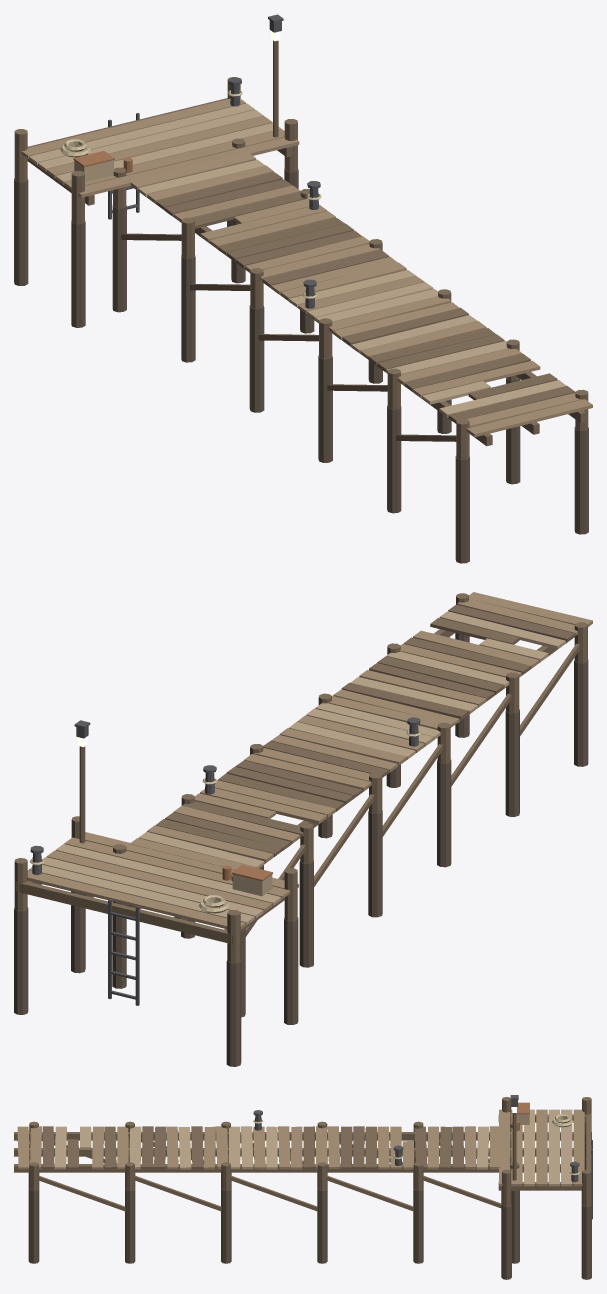
File: SM_Lake_Dock.glb
3 views of the same model, one above another, from view 1: azimuth 30°, elevation 25°; view 2: azimuth 150°, elevation 25°; view 3: azimuth 270°, elevation 25° (orthographic). The views are drawn at different scales.
Parts seen in each view (by area): view 1: SM_Lake_Dock; view 2: SM_Lake_Dock; view 3: SM_Lake_Dock.
Boxes of the visible parts, box(x1,y1,x2,y2) form: SM_Lake_Dock: box(14, 14, 592, 563); SM_Lake_Dock: box(14, 592, 592, 1066); SM_Lake_Dock: box(14, 1095, 592, 1279).
Size of the model in its own units: 4.56 by 4.89 by 14.45.
